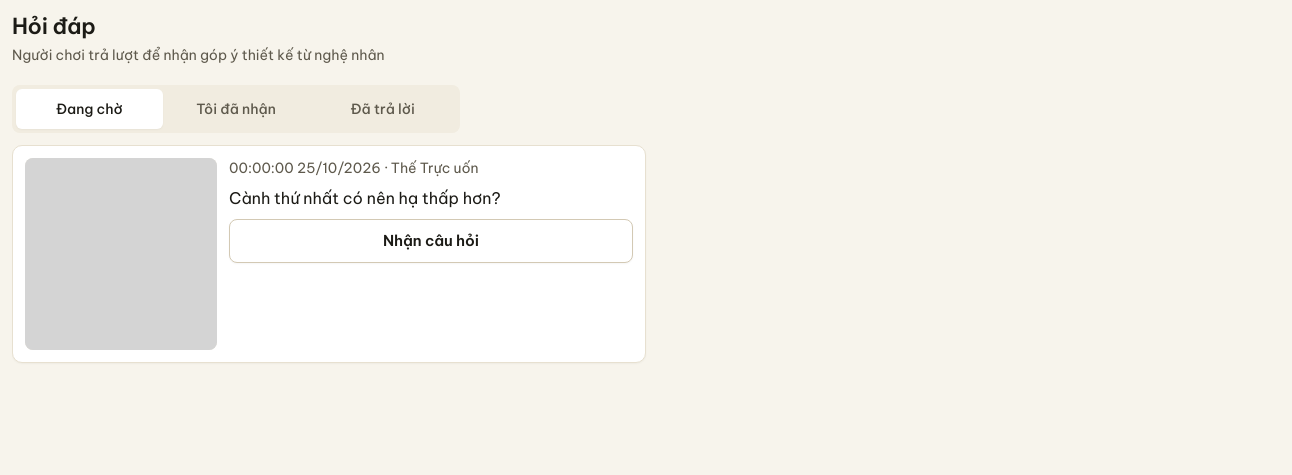
Test case: Nghệ nhân, chăm hộ › artisan claims and answers
This screenshot has width=1292, height=475.
Click the button "Nhận câu hỏi" at (431, 241), box left=229, top=219, right=633, bottom=263
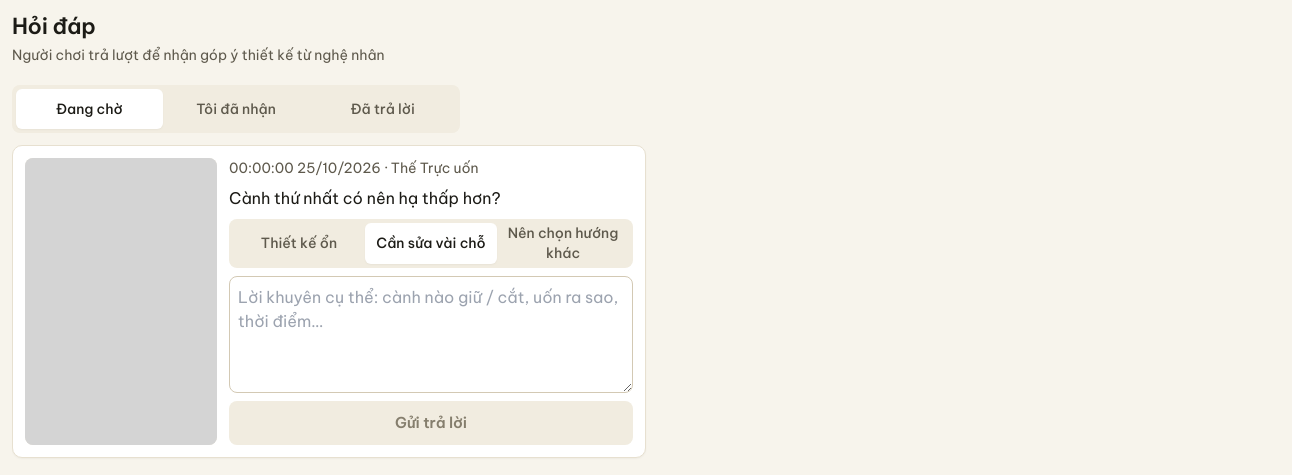
Click the button "Nên chọn hướng khác" at (563, 243), box left=497, top=223, right=629, bottom=264
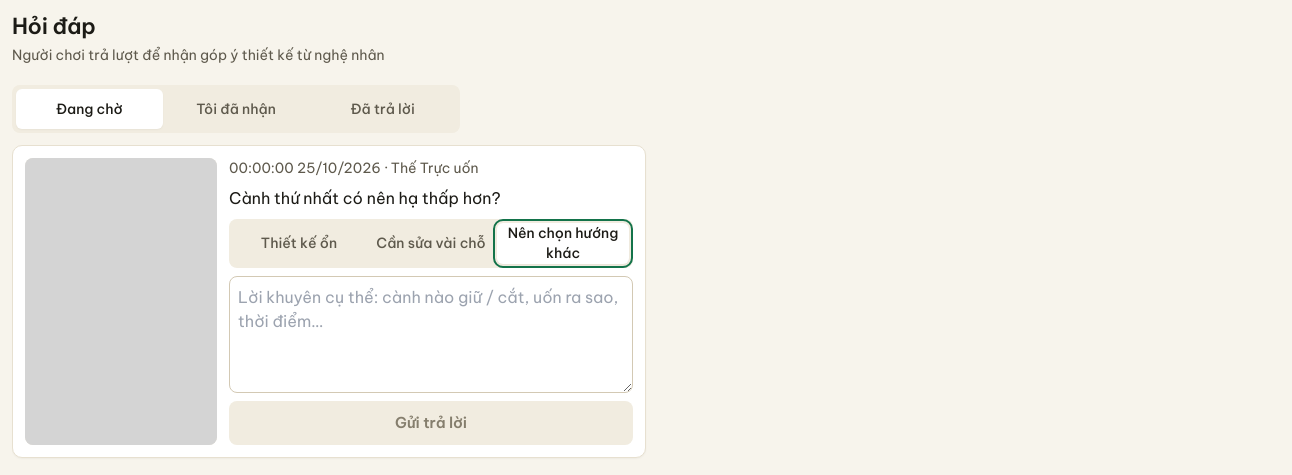
Type "Nên để thế xiêu, giữ cành hậu, hạ ngọn." into the text box labelled "Lời khuyên" at (431, 334), box left=229, top=276, right=633, bottom=393
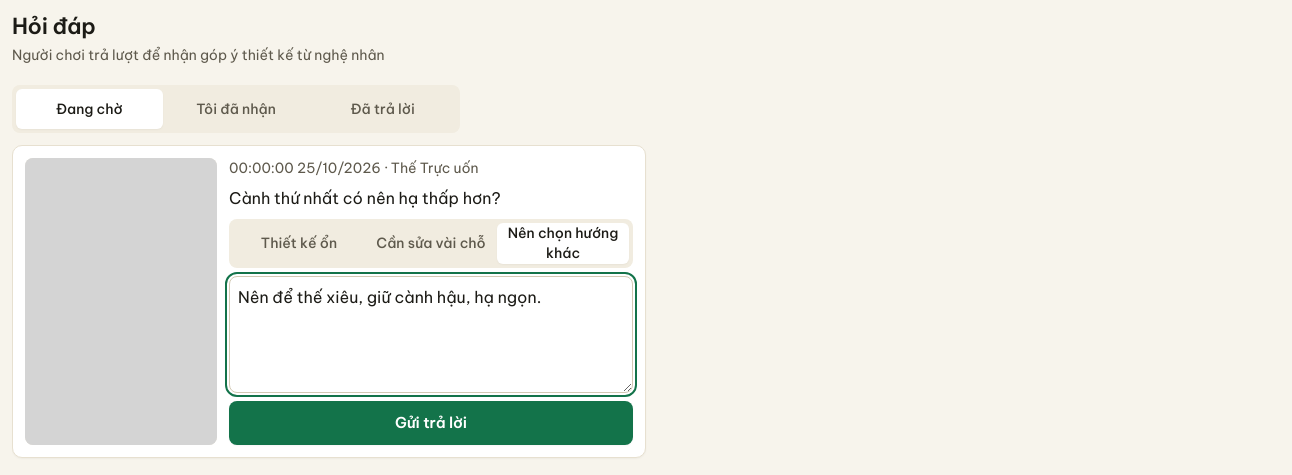
Click the button "Gửi trả lời" at (431, 423), box left=229, top=401, right=633, bottom=445
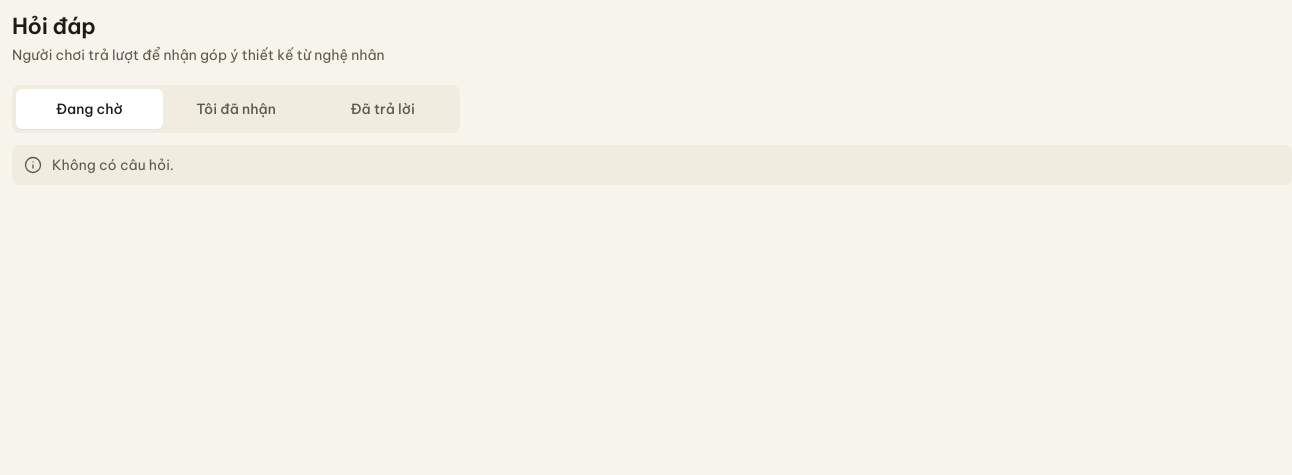
Result: the text "Không có câu hỏi." is shown at left=52, top=156, right=174, bottom=174
